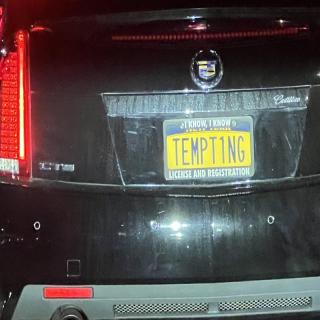license: (164, 117, 256, 182)
